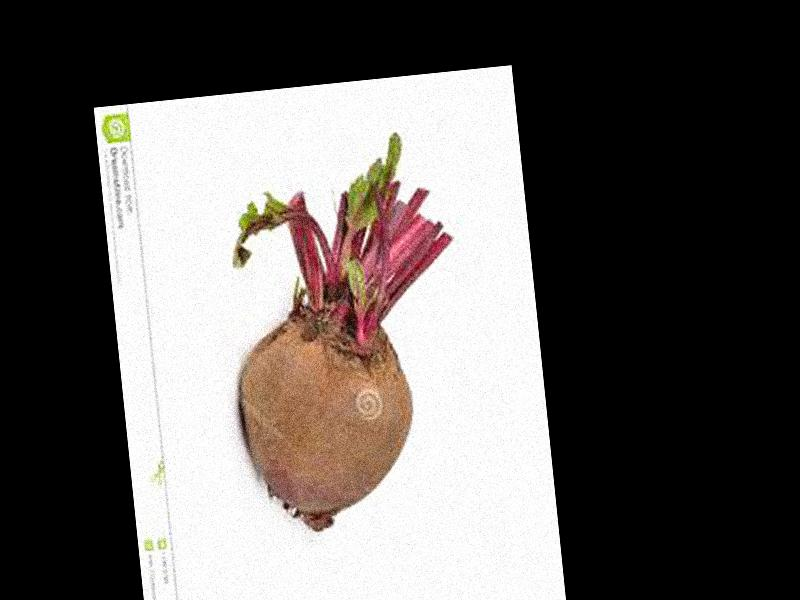Beet: (217, 131, 478, 538)
